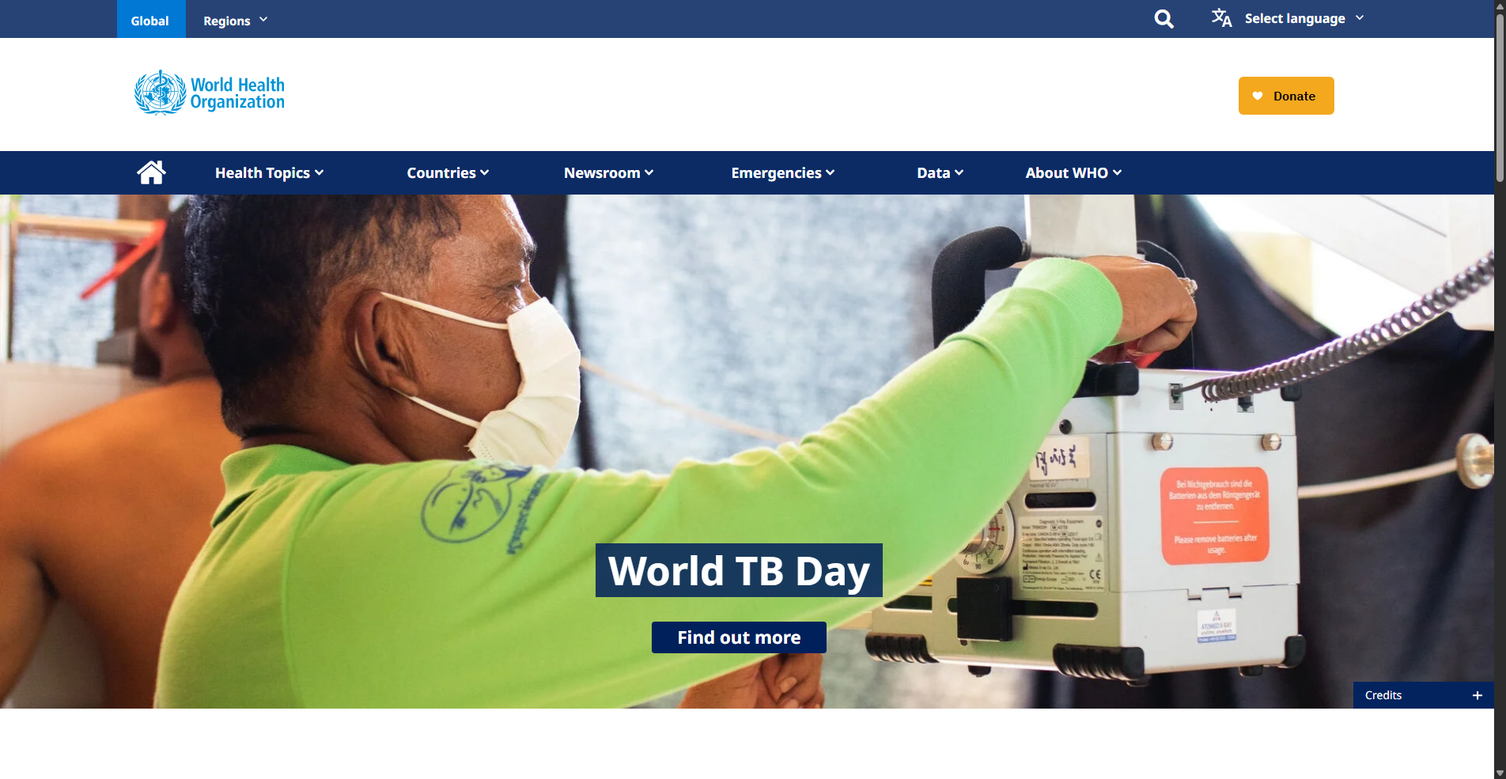button: (652, 621, 826, 653)
dropdown: (1239, 0, 1365, 35)
input: (1193, 0, 1382, 38)
link: (126, 62, 292, 123), (198, 153, 335, 192), (714, 153, 847, 192), (1008, 153, 1134, 192), (654, 623, 825, 651), (546, 153, 666, 192), (390, 153, 501, 192), (186, 0, 285, 38), (899, 153, 976, 192), (117, 0, 186, 38), (128, 153, 176, 192)
